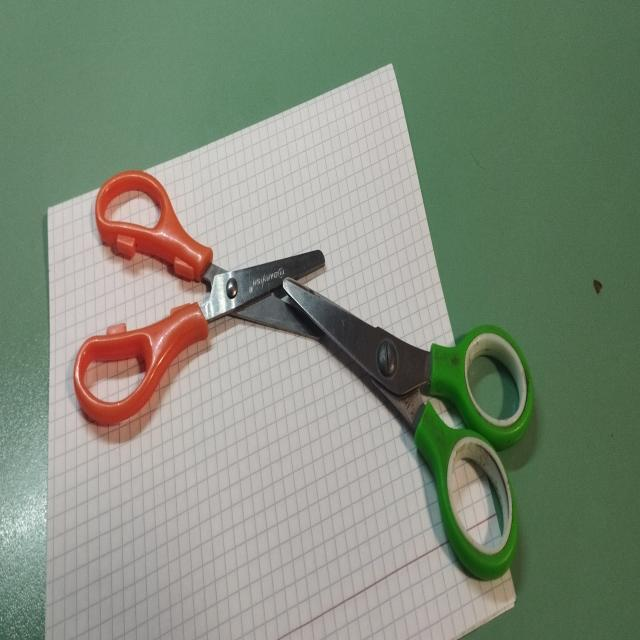tesoura: (278, 256, 538, 584), (68, 158, 330, 432)
